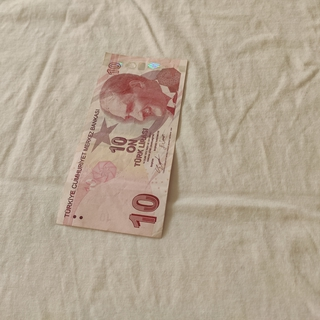10TLFront: (54, 49, 189, 239)
